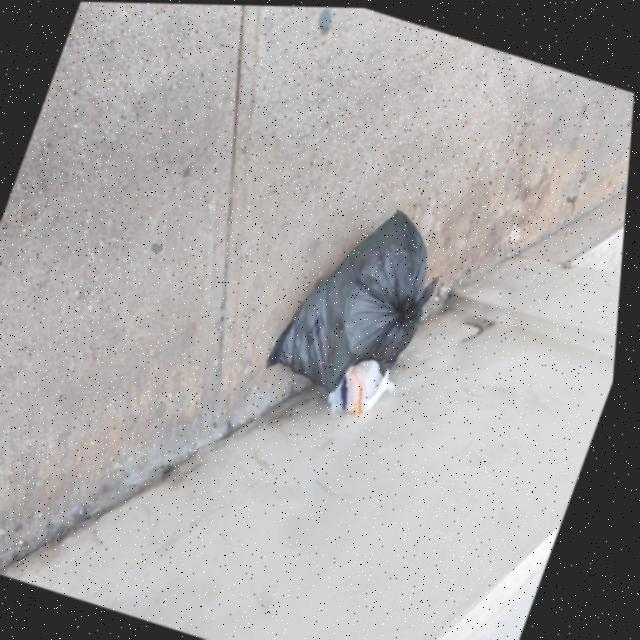Mixed Waste -Black Bag-: (267, 184, 464, 412)
Other: (326, 341, 412, 429)
